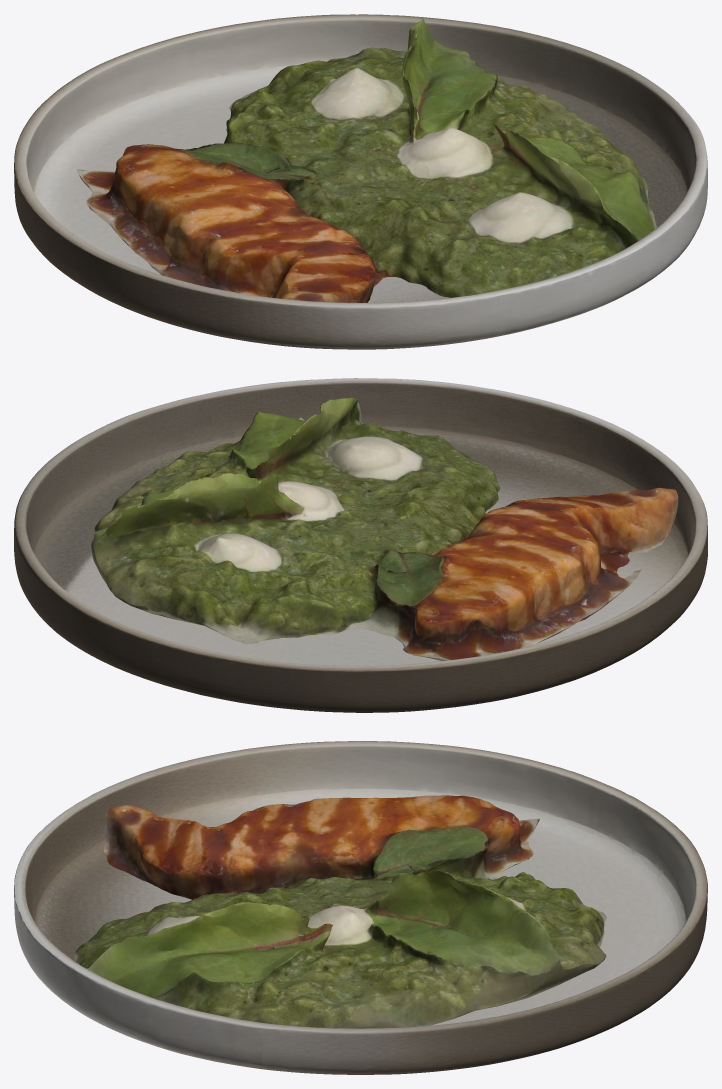
Rendered from OmelettewithsalmonSet03.001.glb.
3 renders of one model, top to bottom at view 1: azimuth 30°, elevation 25°; view 2: azimuth 150°, elevation 25°; view 3: azimuth 270°, elevation 25°, orthographic.
Parts seen in each view (by area): view 1: /Root/Scenes/Scene/Object_42/Object_43/Submesh_0, /Root/Scenes/Scene/Object_42/Object_44/Object_45/Submesh_0; view 2: /Root/Scenes/Scene/Object_42/Object_43/Submesh_0, /Root/Scenes/Scene/Object_42/Object_44/Object_45/Submesh_0; view 3: /Root/Scenes/Scene/Object_42/Object_44/Object_45/Submesh_0, /Root/Scenes/Scene/Object_42/Object_43/Submesh_0.
Boxes of the visible parts, x1,y1,x2,y2 form: /Root/Scenes/Scene/Object_42/Object_43/Submesh_0: [77, 19, 657, 302]; /Root/Scenes/Scene/Object_42/Object_44/Object_45/Submesh_0: [14, 14, 707, 349]; /Root/Scenes/Scene/Object_42/Object_43/Submesh_0: [91, 397, 678, 660]; /Root/Scenes/Scene/Object_42/Object_44/Object_45/Submesh_0: [14, 378, 707, 712]; /Root/Scenes/Scene/Object_42/Object_44/Object_45/Submesh_0: [14, 741, 707, 1074]; /Root/Scenes/Scene/Object_42/Object_43/Submesh_0: [74, 795, 606, 1028].
Size of the model in its own units: 0.2369 by 0.0434 by 0.237.
Materials: 2 (2 with a texture image).
